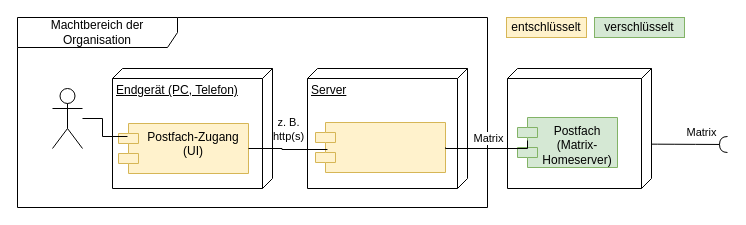
The diagram is 746 pixels wide and 225 high, and some of its shapes have lost their labels. Here are the shapes that lost their labels. From the top down, the box of each, then its label:
(52, 88, 82, 148): Mitarbeitende
(506, 68, 652, 188): Postfach-Backend (zentral)
(314, 122, 446, 172): Postfach-Zugang (Matrix-Client)
